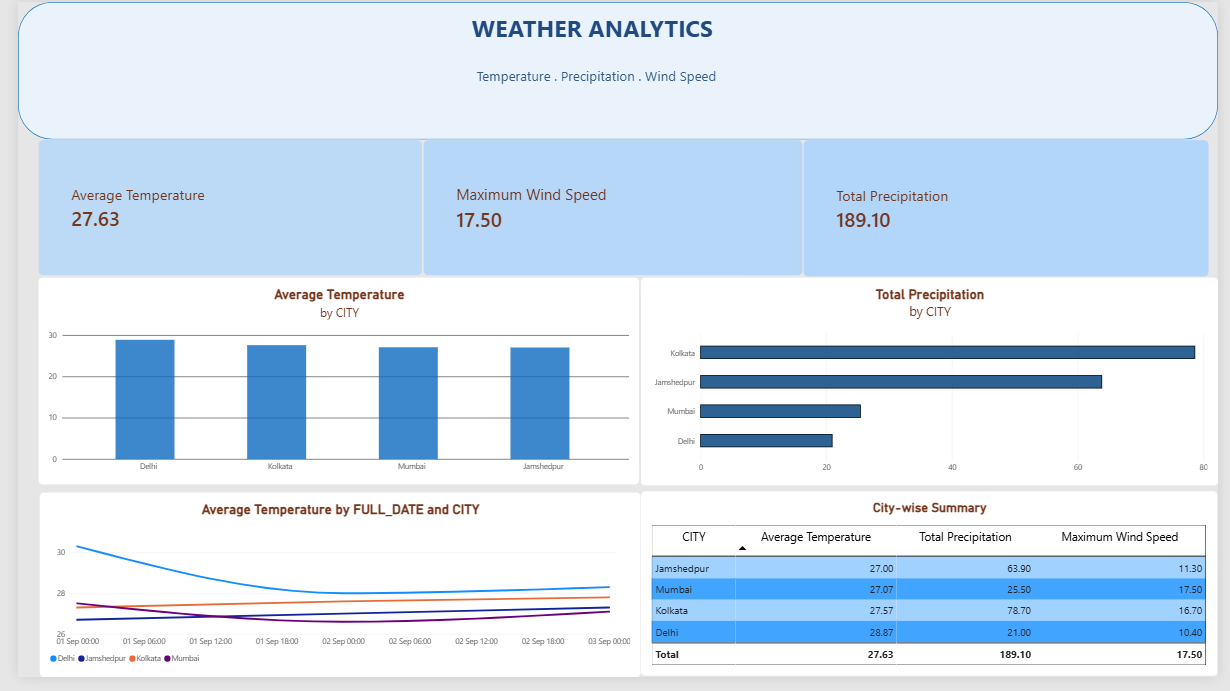

What the dashboard file says about the page in this screenshot:
{"tool":"powerbi","page":{"name":"Page 1","canvas":[1920,1080],"ordinal":0},"visuals":[{"type":"clusteredColumnChart","fields":{"Category":["DIM_LOCATION.CITY"],"Y":["DIM_DATE.Average Temperature"]},"box":[32.6,439.7,962.7,333],"z":0},{"type":"clusteredBarChart","fields":{"Category":["DIM_LOCATION.CITY"],"Y":["FACT_WEATHER.Total Precipitation"]},"box":[995.3,439.7,924.7,334.8],"z":1000},{"type":"textbox","box":[547.5,52.5,572.5,110],"z":2000},{"type":"textbox","box":[342.5,137.5,1115,62.5],"z":3000},{"type":"shape","box":[0,0,1920,220],"z":4000},{"type":"textbox","box":[203.3,16.7,1420,183.3],"z":5000},{"type":"cardVisual","fields":{"Data":["DIM_DATE.Average Temperature"]},"box":[32.6,220.8,615.3,219],"z":6000},{"type":"cardVisual","fields":{"Data":["FACT_WEATHER.Maximum Wind Speed"]},"box":[647.9,220.8,608,219],"z":7000},{"type":"cardVisual","fields":{"Data":["FACT_WEATHER.Total Precipitation"]},"box":[1256,220,650,220],"z":8000},{"type":"lineChart","title":"Average Temperature by FULL_DATE and CITY","fields":{"Category":["DIM_DATE.FULL_DATE"],"Series":["DIM_LOCATION.CITY"],"Y":["DIM_DATE.Average Temperature"]},"box":[33,783,963,297],"z":9000},{"type":"tableEx","title":"City-wise Summary","fields":{"Values":["DIM_LOCATION.CITY","DIM_DATE.Average Temperature","FACT_WEATHER.Total Precipitation","FACT_WEATHER.Maximum Wind Speed"]},"box":[996,782,924,297],"z":10000}]}

Visuals, with their boxes in screenshot pixels (x1, y1, x2, y2), scaled from the page's 1920x1080 canvas onto the 1230x691 screenshot:
clusteredColumnChart - DIM_LOCATION.CITY x DIM_DATE.Average Temperature: bbox=(21, 281, 638, 494)
clusteredBarChart - DIM_LOCATION.CITY x FACT_WEATHER.Total Precipitation: bbox=(638, 281, 1229, 496)
textbox: bbox=(351, 34, 718, 104)
textbox: bbox=(219, 88, 934, 128)
shape: bbox=(0, 0, 1229, 141)
textbox: bbox=(130, 11, 1040, 128)
cardVisual - DIM_DATE.Average Temperature: bbox=(21, 141, 415, 281)
cardVisual - FACT_WEATHER.Maximum Wind Speed: bbox=(415, 141, 805, 281)
cardVisual - FACT_WEATHER.Total Precipitation: bbox=(805, 141, 1221, 282)
"Average Temperature by FULL_DATE and CITY" lineChart: bbox=(21, 501, 638, 690)
"City-wise Summary" tableEx: bbox=(638, 500, 1229, 690)
